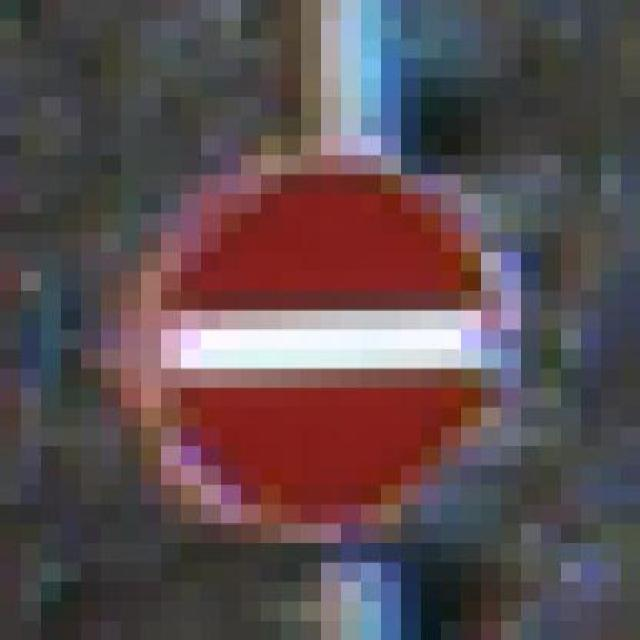No Entry: (100, 116, 520, 582)
